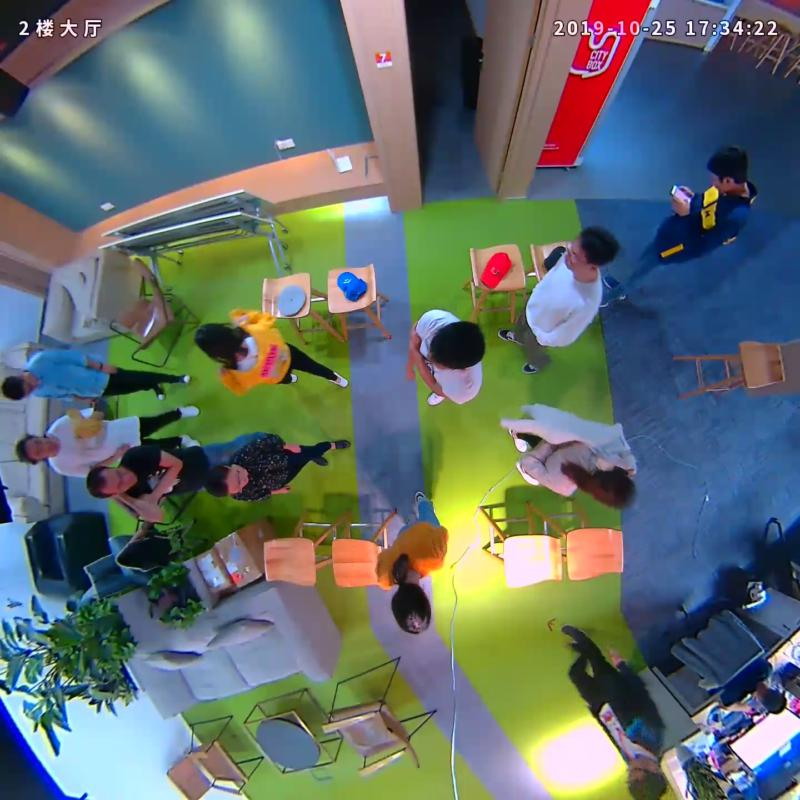head: (428, 322, 486, 370), (565, 224, 619, 269), (392, 583, 432, 636), (706, 146, 748, 193), (193, 322, 242, 360), (627, 754, 667, 800), (86, 464, 137, 499), (593, 467, 635, 509), (203, 464, 249, 497), (15, 434, 57, 464), (1, 373, 39, 403)
